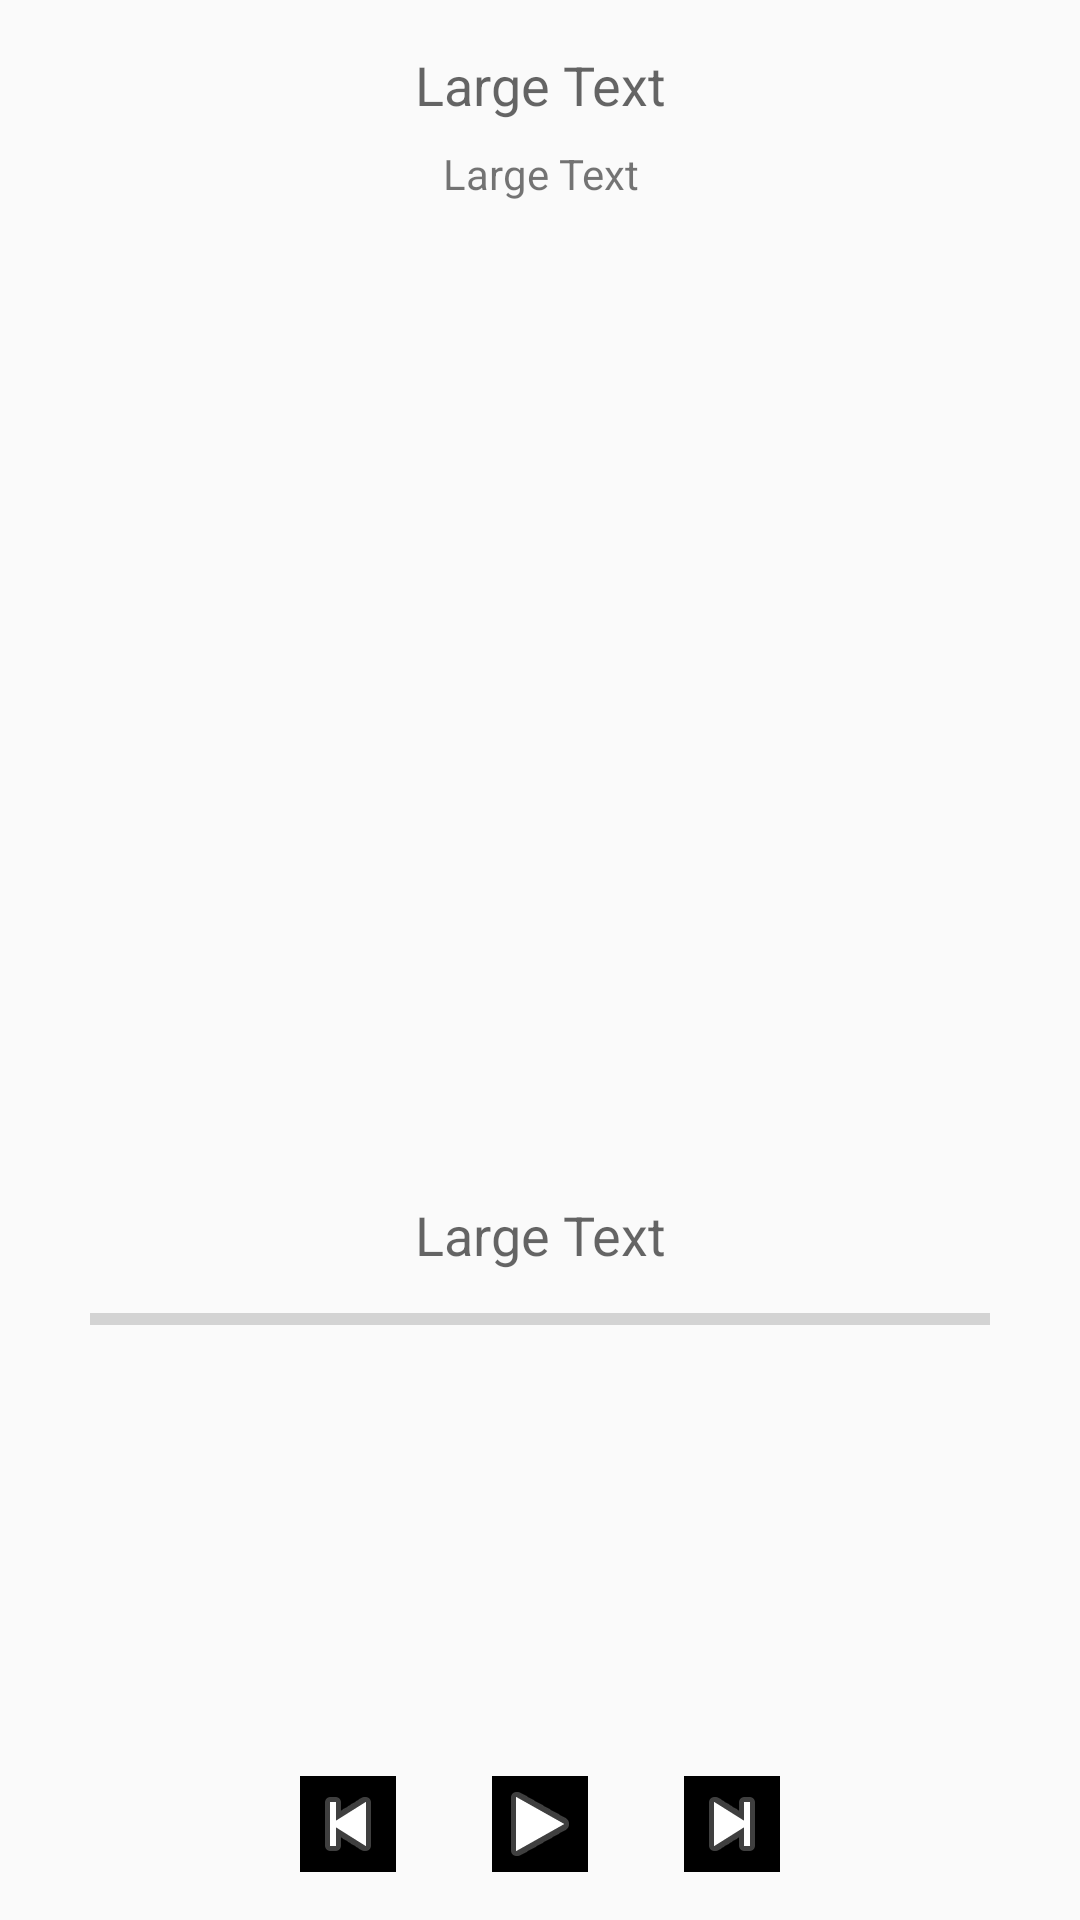

Point at icon controls on the screen. Image size 1080px x 1920px, points as point (x, y).
next: point (732, 1824)
play: point (540, 1824)
previous: point (348, 1824)
